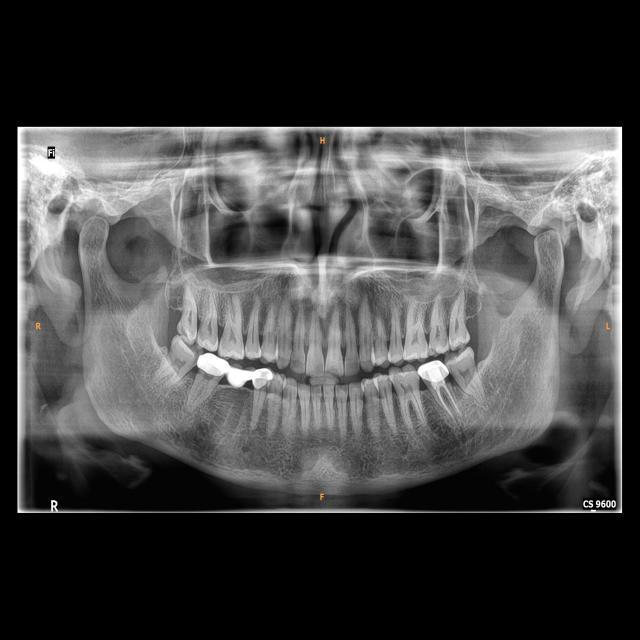kanal-tedavisi: (428, 379, 458, 416)
kaplama: (193, 349, 231, 378), (413, 356, 452, 384), (249, 364, 275, 394)
kopru: (223, 366, 255, 392)
